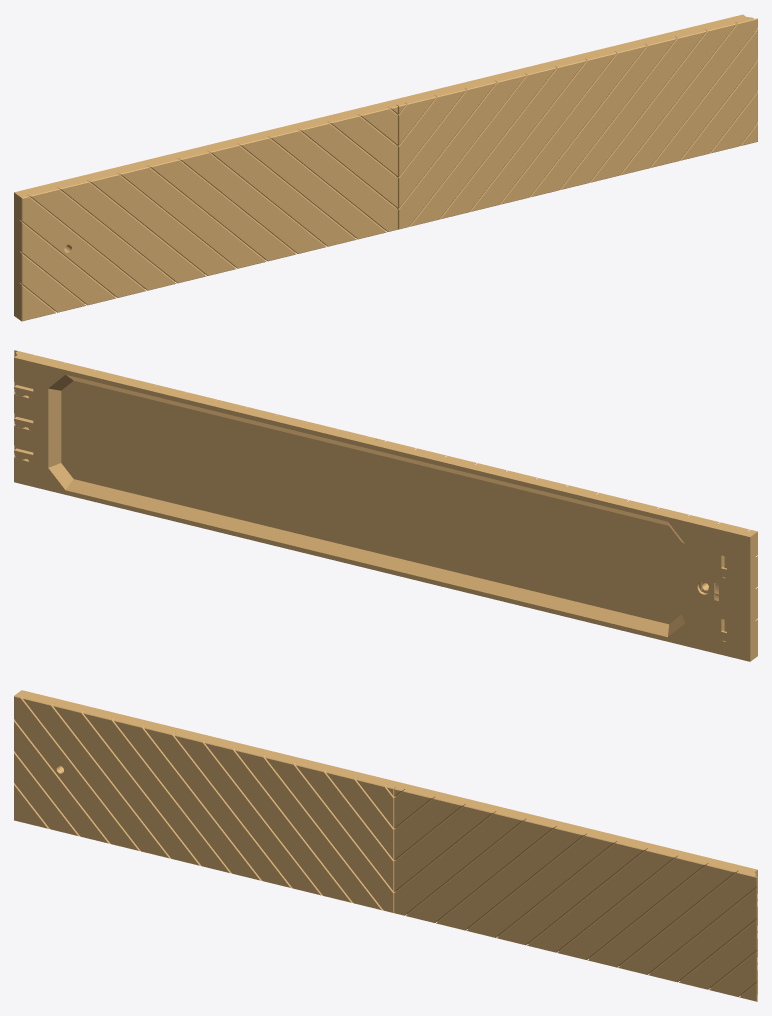
The model's file is Door_Chevron_4W-1H_RH.lib.glb.
3 views of the same model, one above another, from view 1: azimuth 30°, elevation 25°; view 2: azimuth 150°, elevation 25°; view 3: azimuth 330°, elevation 25° (orthographic).
Visible parts, largest first — view 1: Door_Chevron_4W-1H_RH; view 2: Door_Chevron_4W-1H_RH; view 3: Door_Chevron_4W-1H_RH.
Boxes of the visible parts, x1,y1,x2,y2 form: Door_Chevron_4W-1H_RH: (14, 14, 757, 321); Door_Chevron_4W-1H_RH: (14, 350, 757, 661); Door_Chevron_4W-1H_RH: (14, 690, 757, 1001).
Bounding box in the file's own units: 343 × 55 × 6.49.
